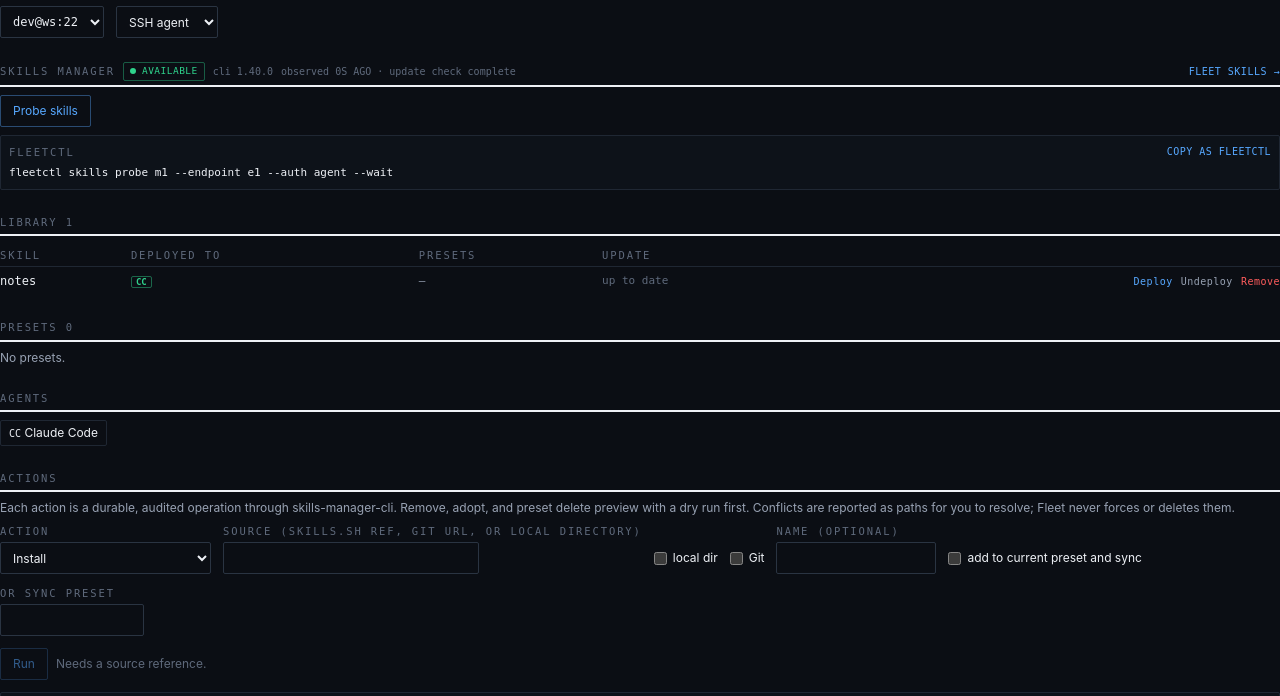
Test: machine Skills tab › does not ask for a refresh after a preview
What coordinates should you click on to do the following:
click the button with test id "remove-notes"
I would click on:
 (1260, 281)
Its box is top-left (1241, 275), bottom-right (1279, 288).
(page scrolled)
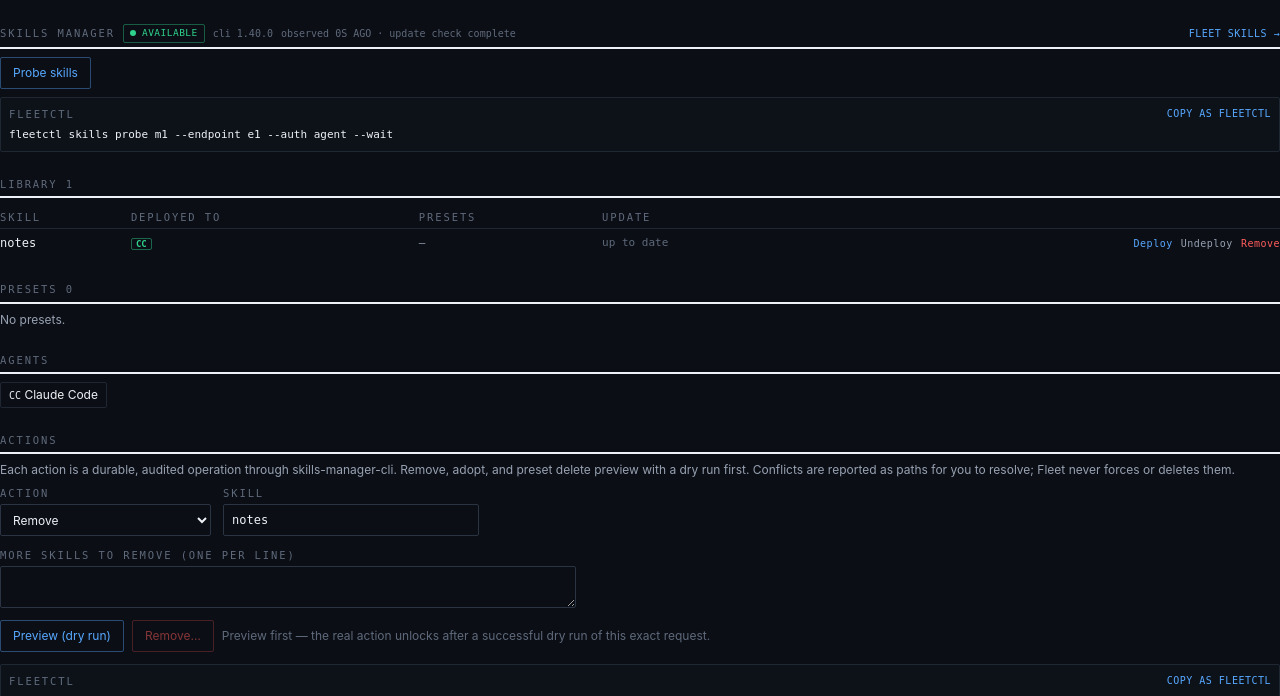
What coordinates should you click on to do the following:
click the button with test id "skills-preview"
I would click on:
 (62, 636)
Its box is top-left (0, 620), bottom-right (124, 652).
(page scrolled)
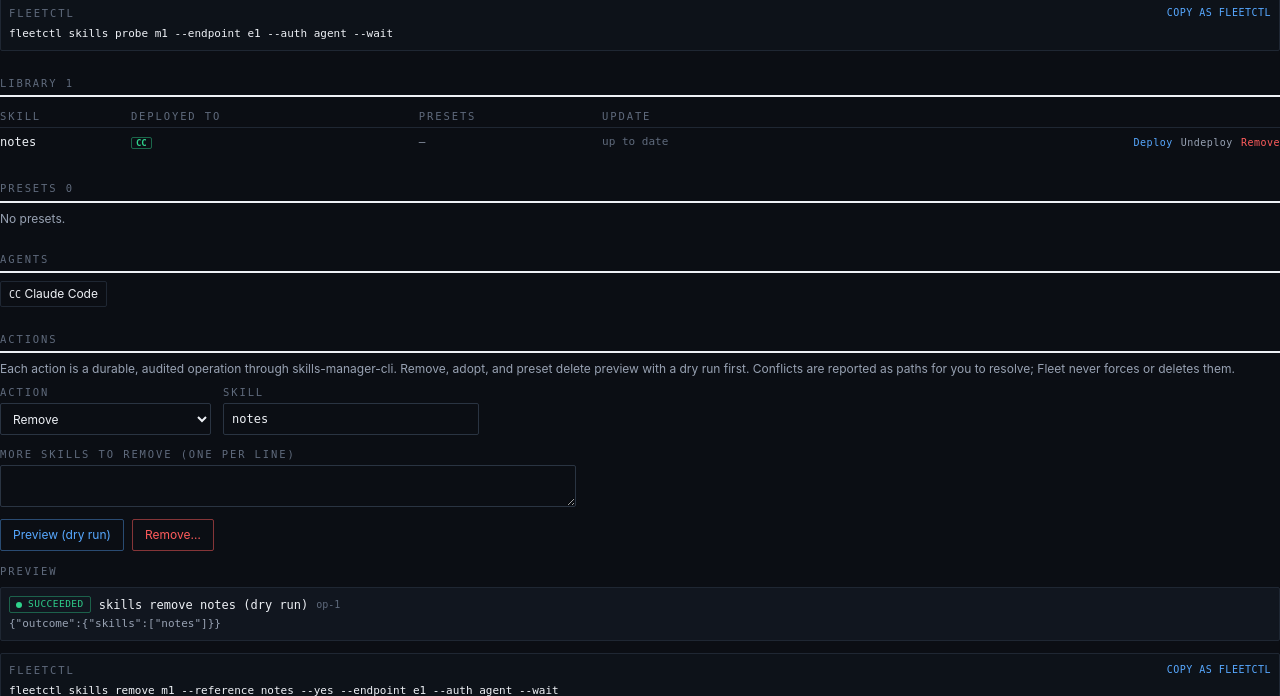
Expected: the element with test id "operation-status" shows "succeeded", top-left (28, 598), bottom-right (84, 609)
